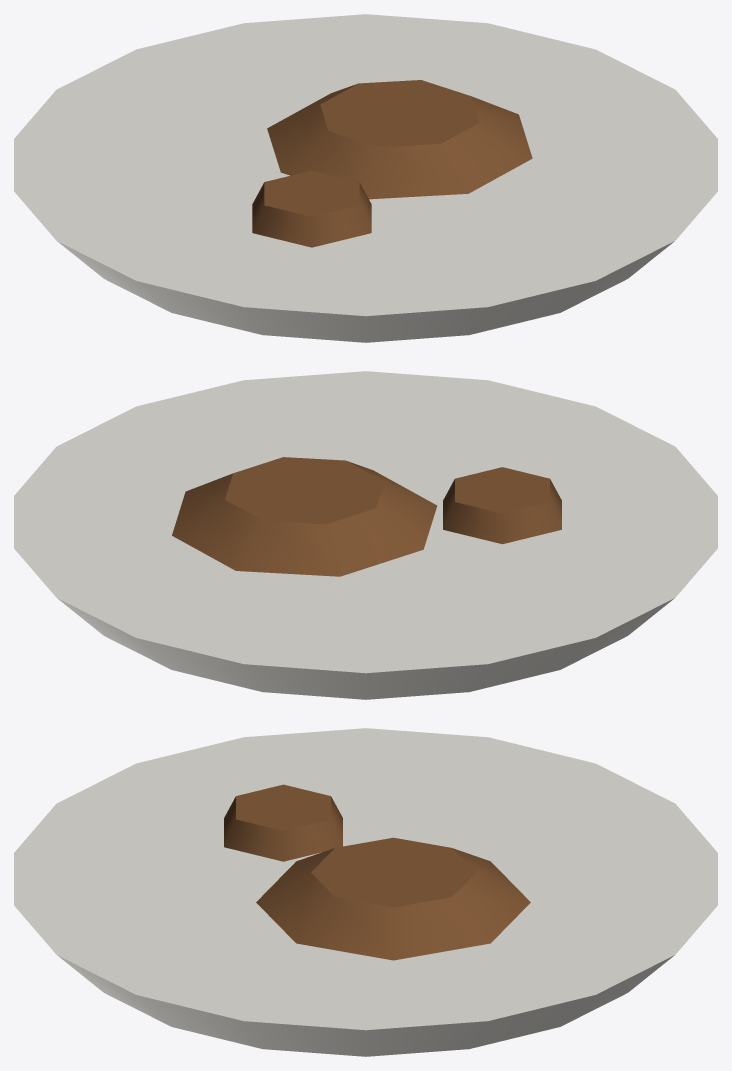
File: plate.glb
3 views of the same model, one above another, from view 1: azimuth 30°, elevation 25°; view 2: azimuth 150°, elevation 25°; view 3: azimuth 270°, elevation 25° (orthographic).
Parts seen in each view (by area): view 1: plate; view 2: plate; view 3: plate.
Boxes of the visible parts, x1=… form: plate: x1=14, y1=14, x2=717, y2=342; plate: x1=14, y1=371, x2=717, y2=699; plate: x1=14, y1=728, x2=717, y2=1056.
Size of the model in its own units: 0.26 by 0.032 by 0.2561.
